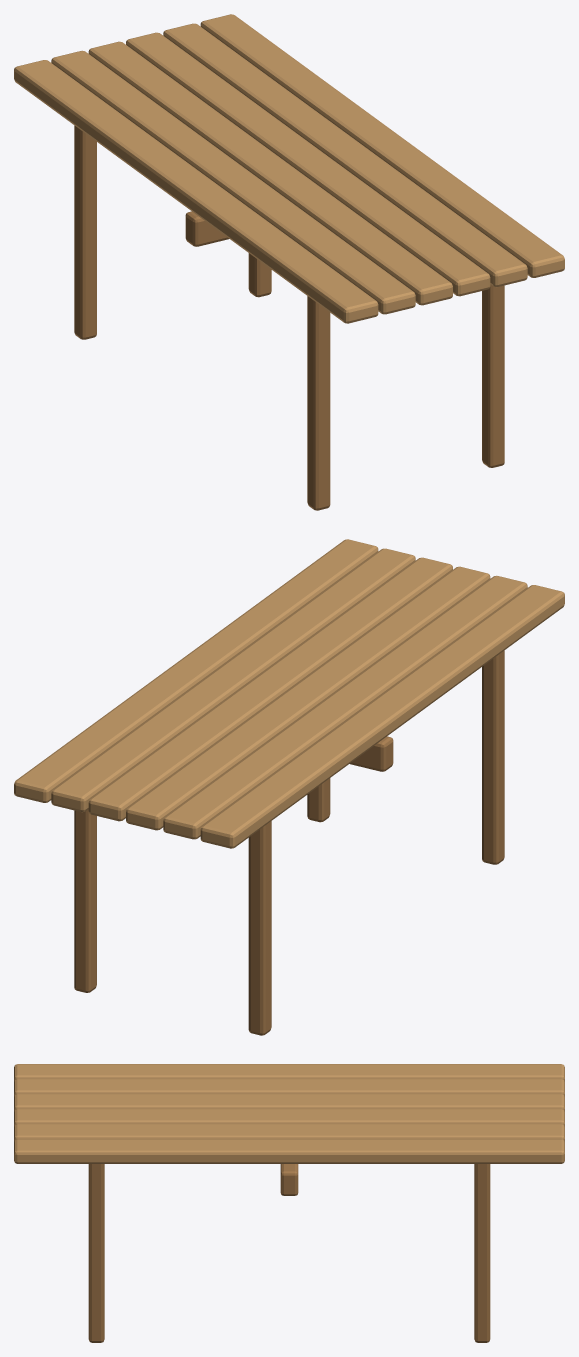
The model's file is SM_PlayerHouse_Workbench.fbx.
3 renders of one model, top to bottom at view 1: azimuth 30°, elevation 25°; view 2: azimuth 150°, elevation 25°; view 3: azimuth 270°, elevation 25°, orthographic. The views are drawn at different scales.
Parts seen in each view (by area): view 1: SM_PlayerHouse_Workbench; view 2: SM_PlayerHouse_Workbench; view 3: SM_PlayerHouse_Workbench.
Boxes of the visible parts, box(x1,y1,x2,y2) form: SM_PlayerHouse_Workbench: box(14, 14, 564, 510); SM_PlayerHouse_Workbench: box(14, 539, 564, 1035); SM_PlayerHouse_Workbench: box(14, 1064, 564, 1342).
Size of what is drawn, in the model's own units: 93.8 by 245 by 97.25.
